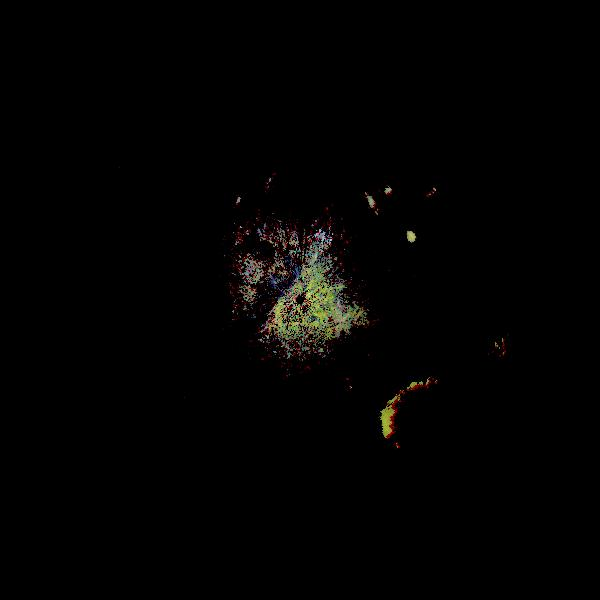roost: (343, 341, 562, 560)
